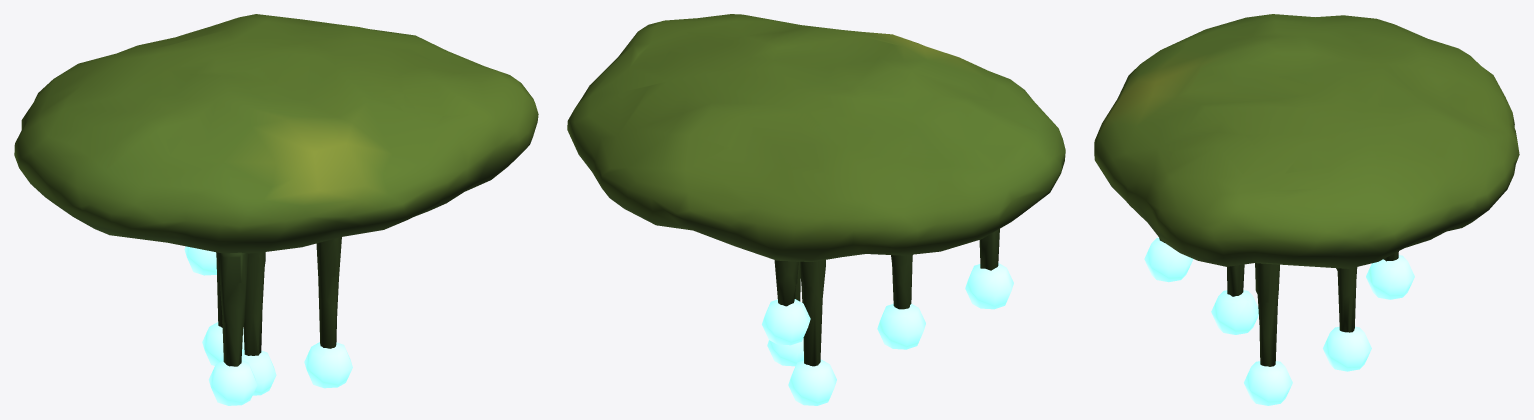
The model's file is mire_moss_ledge.glb.
The picture shows the model from 3 angles, left to right: view 1: azimuth 30°, elevation 25°; view 2: azimuth 150°, elevation 25°; view 3: azimuth 270°, elevation 25°; orthographic projection. The views are drawn at different scales.
Parts seen in each view (by area): view 1: mire_moss_ledge; view 2: mire_moss_ledge; view 3: mire_moss_ledge.
Boxes of the visible parts, x1,y1,x2,y2 form: mire_moss_ledge: (14, 14, 538, 405); mire_moss_ledge: (567, 14, 1065, 405); mire_moss_ledge: (1094, 14, 1519, 405).
Bounding box in the file's own units: 2.62 × 1.82 × 2.24.
